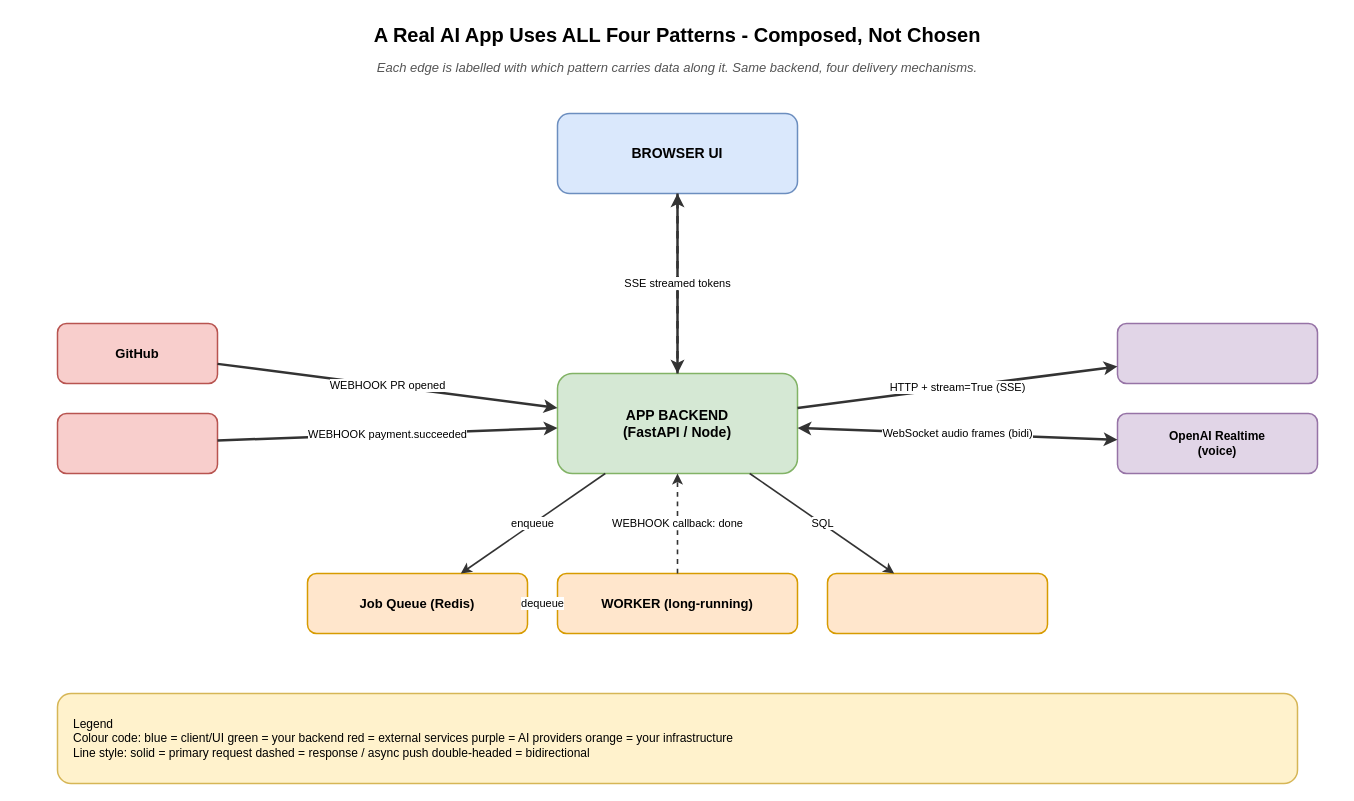
The diagram is 1354 pixels wide and 801 high, and some of its shapes have lost their labels. The shapes that lost their labels are listed below. From the top down, each one's centre as x and y in pixels, then its label:
At [1217,353]: "LLM API (OpenAI/Anthropic)".
At [137,443]: "Stripe".
At [937,603]: "Postgres".
